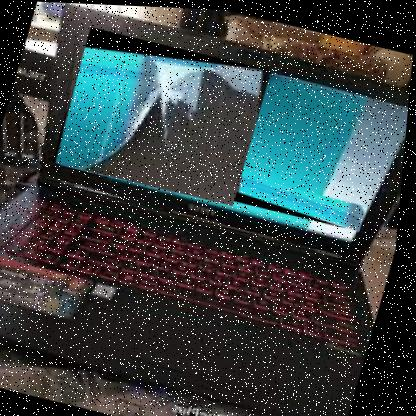crack: (51, 25, 274, 205)
lines: (158, 156, 372, 229)
